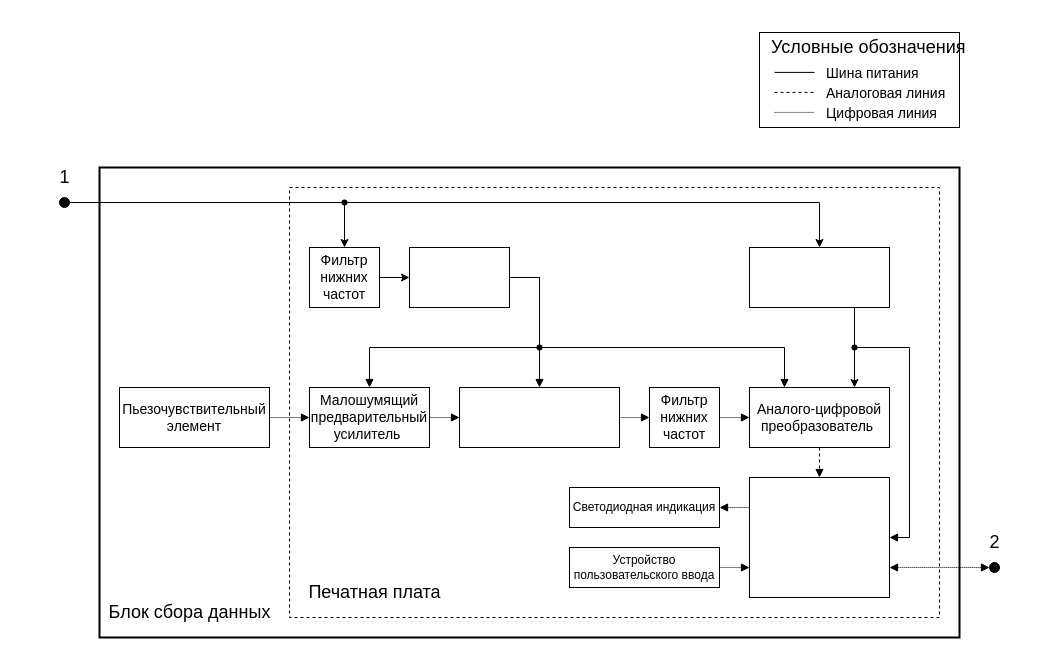
This 1059x659 diagram has some shape labels left out. The box of each missing label's shape, as (x1, y1, x2, y2) in pixels:
Импульстный преобразователь напряжения: (748, 246, 890, 308)
Малошумящий линейный регулятор напряжения: (408, 246, 510, 308)
Модуль на основе однокристальной микропроцессорной системы: (748, 476, 890, 598)
Усилитель с управляемым коэффициентом усиления: (458, 386, 620, 448)
